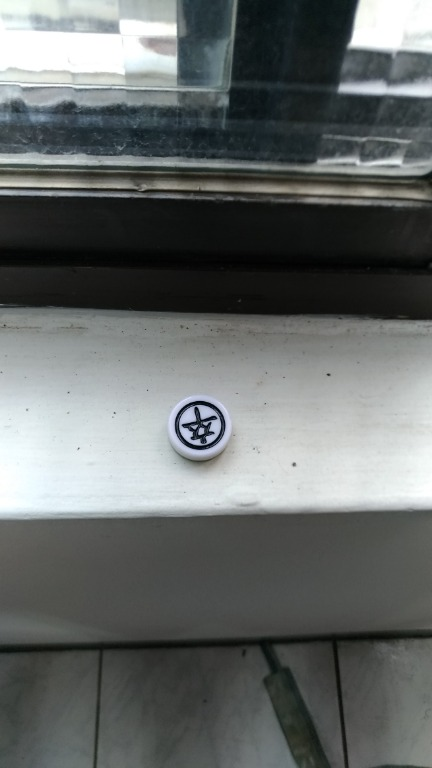b-pawn: (158, 388, 259, 481)
